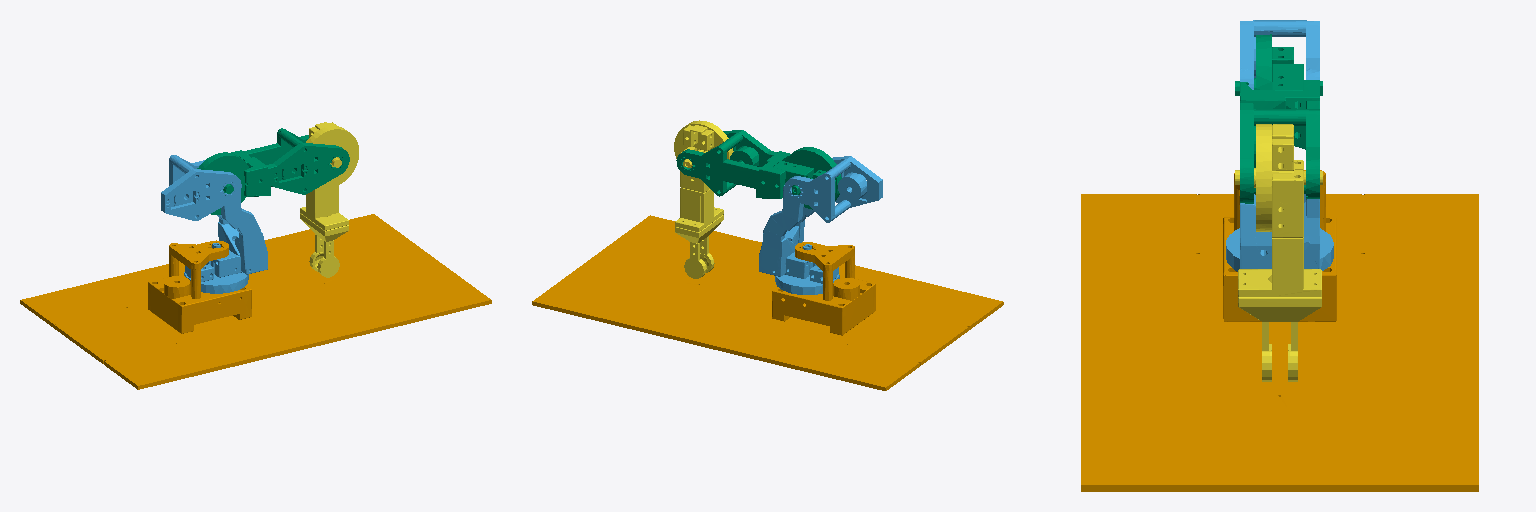
URDF robot description (RBE3001Arm):
<robot name="RBE3001Arm">

    <link name="baselink">
        <visual>
            <geometry>
                <origin xyz="0 0 0" rpy="0 0 0"/>
                <mesh filename="CAD/Link0_lowRes.stl"/>
            </geometry>
        </visual>
    </link>

    <link name="link1">
        <visual>
            <geometry>
                <origin xyz="0 0 0" rpy="0 0 0"/>
                <mesh filename="CAD/Link1_lowRes.stl"/>
            </geometry>
        </visual>
    </link>

    <link name="link2">
        <visual>
            <geometry>
                <origin xyz="0 0 0" rpy="0 0 0"/>
                <mesh filename="CAD/Link2_lowRes.stl"/>
            </geometry>
        </visual>
    </link>

    <link name="link3">
        <visual>
            <geometry>
                <origin xyz="0 0 0" rpy="0 0 0"/>
                <mesh filename="CAD/Link3_lowRes.stl"/>
            </geometry>
        </visual>
    </link>

    <joint name="joint1" type="continuous">
        <parent link="baselink"/>
        <child link="link1"/>
        <axis xyz="0 0 1"/>
        <origin xyz="0 0 0.065" rpy="0 0 0"/>
    </joint>

    <joint name="joint2" type="continuous">
        <parent link="link1"/>
        <child link="link2"/>
        <axis xyz="0 0 1"/>
        <origin xyz="0 0 0.135" rpy="-1.5708 0 0"/>
    </joint>

    <joint name="joint3" type="continuous">
        <parent link="link2"/>
        <child link="link3"/>
        <axis xyz="0 0 1"/>
        <origin xyz="0.175 0 0" rpy="0 0 1.5708"/>
    </joint>

</robot>

--- What the picture shows (computed from the rendered views, not written in the file) ---
Views: 3 orthographic renders of the robot side by side, from view 1: azimuth 30°, elevation 25°; view 2: azimuth 150°, elevation 25°; view 3: azimuth 270°, elevation 25°.
Robot: RBE3001Arm — 4 links, 3 joints (3 continuous); root link baselink; default pose: every joint at zero.
Visible links, largest first — view 1: baselink, link1, link2, link3; view 2: baselink, link1, link2, link3; view 3: baselink, link3, link2, link1.
Boxes of the visible links, bbox=[...] form: baselink: bbox=[20, 214, 491, 389]; link1: bbox=[161, 155, 267, 293]; link2: bbox=[197, 128, 349, 214]; link3: bbox=[300, 122, 358, 277]; baselink: bbox=[532, 215, 1003, 390]; link1: bbox=[759, 156, 882, 294]; link2: bbox=[676, 130, 841, 209]; link3: bbox=[674, 120, 733, 278]; baselink: bbox=[1081, 170, 1478, 491]; link3: bbox=[1235, 124, 1322, 381]; link2: bbox=[1235, 34, 1322, 203]; link1: bbox=[1226, 20, 1333, 271].
Size in the robot's own frame: 0.5724 by 0.33 by 0.2512 metres.
Meshes: 4 distinct files referenced, 4 mesh visuals loaded (4 binary STL).